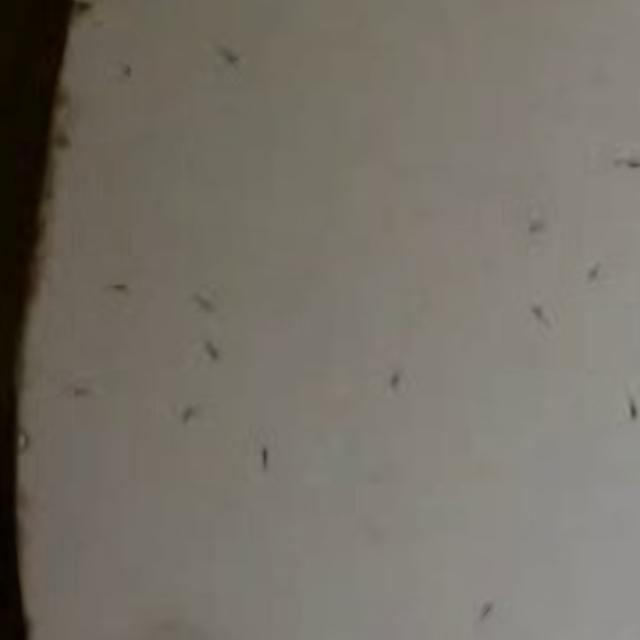shrimp-seed: (178, 277, 231, 320), (576, 244, 620, 295), (524, 289, 564, 345), (198, 37, 258, 73), (373, 352, 415, 402), (250, 428, 286, 485), (162, 393, 210, 434), (600, 134, 640, 180), (61, 378, 111, 410), (190, 332, 232, 369), (616, 378, 640, 434), (105, 49, 141, 86), (471, 592, 502, 630), (92, 270, 141, 294)
